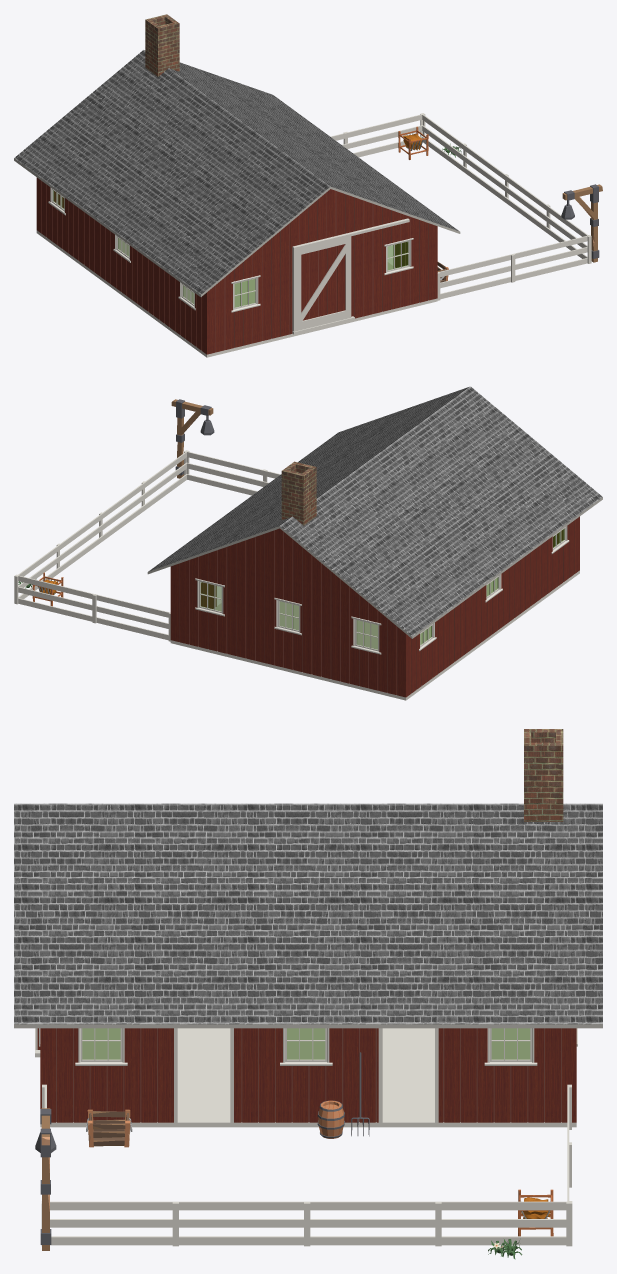
Rendered from kora.fbx.
3 views of the same model, one above another, from view 1: azimuth 30°, elevation 25°; view 2: azimuth 150°, elevation 25°; view 3: azimuth 270°, elevation 25° (orthographic). The views are drawn at different scales.
Visible parts, largest first — view 1: Kora_0001:D5006br3, Kora_0001:D5006tab, Kora_0001:D5006whi, Kora_0001:D5006woo, Kora_0001:D5006bri, Kora_0001:D5006gre, Kora_0001:D5006gla, Kora_0001:Lamp, Kora_0001:Feeder_2_w_Hay; view 2: Kora_0001:D5006br3, Kora_0001:D5006tab, Kora_0001:D5006whi, Kora_0001:D5006bri, Kora_0001:D5006gla, Kora_0001:D5006gre, Kora_0001:Lamp; view 3: Kora_0001:D5006br3, Kora_0001:D5006whi, Kora_0001:D5006tab, Kora_0001:D5006bri, Kora_0001:D5006gla, Kora_0001:D5006gre, Kora_0001:Lamp, Kora_0001:Crate, Kora_0001:Barrel, Kora_0001:Feeder_2_w_Hay.
Part boxes in pixels (left/top/right/bottom): Kora_0001:D5006br3: left=14, top=50, right=459, bottom=294; Kora_0001:D5006tab: left=36, top=177, right=437, bottom=354; Kora_0001:D5006whi: left=36, top=113, right=591, bottom=357; Kora_0001:D5006woo: left=301, top=244, right=345, bottom=320; Kora_0001:D5006bri: left=145, top=14, right=179, bottom=76; Kora_0001:D5006gre: left=14, top=158, right=460, bottom=296; Kora_0001:D5006gla: left=53, top=190, right=408, bottom=307; Kora_0001:Lamp: left=561, top=184, right=602, bottom=262; Kora_0001:Feeder_2_w_Hay: left=398, top=126, right=428, bottom=159; Kora_0001:D5006br3: left=148, top=386, right=602, bottom=636; Kora_0001:D5006tab: left=170, top=516, right=579, bottom=697; Kora_0001:D5006whi: left=14, top=450, right=579, bottom=700; Kora_0001:D5006bri: left=281, top=461, right=316, bottom=525; Kora_0001:D5006gla: left=200, top=529, right=564, bottom=649; Kora_0001:D5006gre: left=147, top=497, right=602, bottom=638; Kora_0001:Lamp: left=171, top=399, right=214, bottom=478; Kora_0001:D5006br3: left=14, top=803, right=602, bottom=1024; Kora_0001:D5006whi: left=35, top=1028, right=577, bottom=1246; Kora_0001:D5006tab: left=40, top=1028, right=576, bottom=1122; Kora_0001:D5006bri: left=524, top=729, right=563, bottom=821; Kora_0001:D5006gla: left=82, top=1028, right=530, bottom=1059; Kora_0001:D5006gre: left=14, top=1024, right=602, bottom=1028; Kora_0001:Lamp: left=35, top=1108, right=56, bottom=1250; Kora_0001:Crate: left=86, top=1109, right=132, bottom=1147; Kora_0001:Barrel: left=317, top=1100, right=344, bottom=1138; Kora_0001:Feeder_2_w_Hay: left=518, top=1189, right=553, bottom=1236.
Bounding box in the file's own units: 145 × 63.21 × 112.
Materials: 29 (5 with a texture image).
